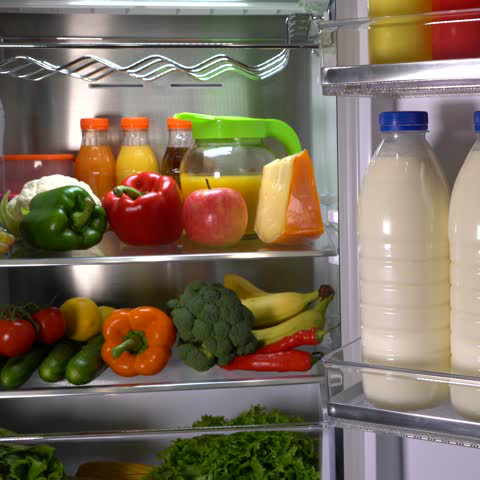milk: (355, 110, 480, 413)
